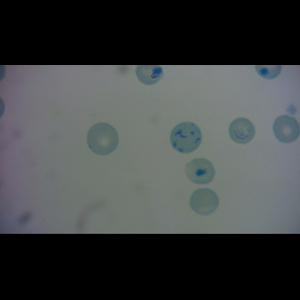aggregate reticulocyte: (169, 122, 203, 154)
erythrocyte: (183, 157, 216, 185), (188, 187, 220, 215), (272, 114, 300, 145), (227, 117, 257, 145)
punctate reticulocyte: (86, 122, 120, 157)
